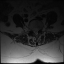CCS_normal: (35, 29, 37, 36)
LFS_severe_stenosis: (38, 28, 40, 33)
LLS_severe_stenosis: (37, 29, 38, 35)
RFS_severe_stenosis: (31, 28, 33, 33)
RLS_stenosis: (33, 29, 35, 35)
